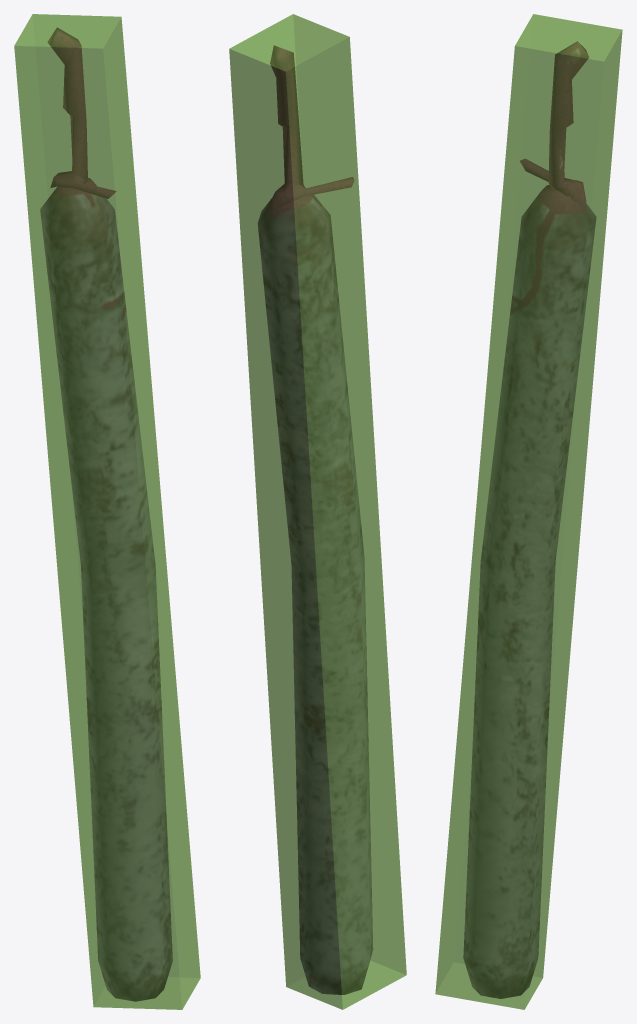
The model's file is pg_Chorizo_01_f.fbx.
3 views of the same model, side by side, from view 1: azimuth 90°, elevation 25°; view 2: azimuth 150°, elevation 25°; view 3: azimuth 270°, elevation 25° (orthographic).
Visible parts, largest first — view 1: pg_Chorizo_01_f_col, pg_Chorizo_01_f_LOD0; view 2: pg_Chorizo_01_f_col, pg_Chorizo_01_f_LOD0; view 3: pg_Chorizo_01_f_col, pg_Chorizo_01_f_LOD0.
Boxes of the visible parts, x1,y1,x2,y2 form: pg_Chorizo_01_f_col: [14, 14, 200, 1009]; pg_Chorizo_01_f_LOD0: [40, 27, 172, 1001]; pg_Chorizo_01_f_col: [229, 14, 406, 1009]; pg_Chorizo_01_f_LOD0: [257, 45, 373, 994]; pg_Chorizo_01_f_col: [435, 14, 622, 1009]; pg_Chorizo_01_f_LOD0: [463, 41, 596, 998].
Size of what is drawn, in the model's own units: 7.67 by 69.75 by 12.29.
